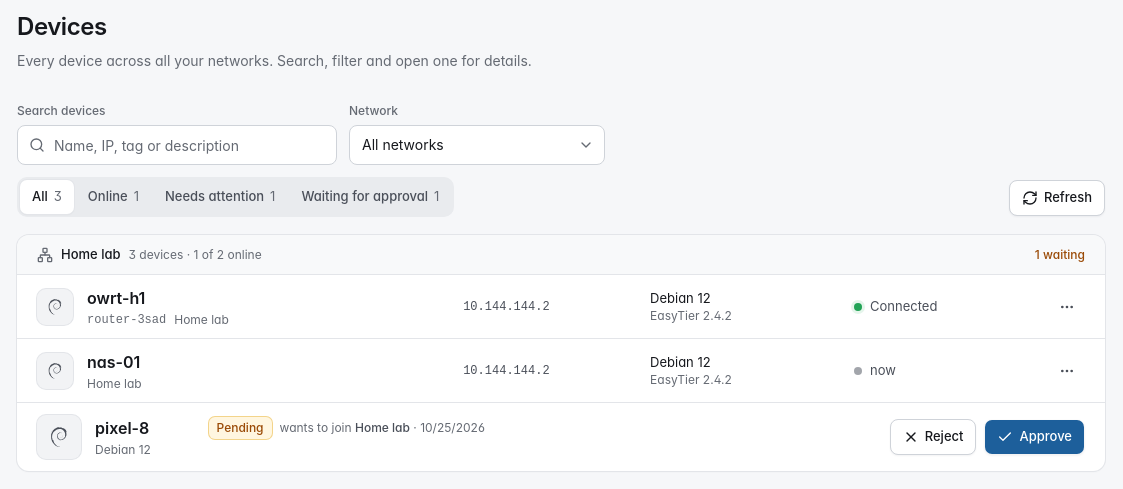
Test case: DevicesPage › filters with the segmented control and offers inline decisions
Expected: the button with aria-label "Approve pixel-8" is shown, top-left (984, 419), bottom-right (1085, 455)
Expected: the button with aria-label "Reject pixel-8" is shown, top-left (890, 419), bottom-right (976, 455)
Click the radio button labelled "Waiting for approval 1" at (370, 197), box top-left (289, 180), bottom-right (451, 214)
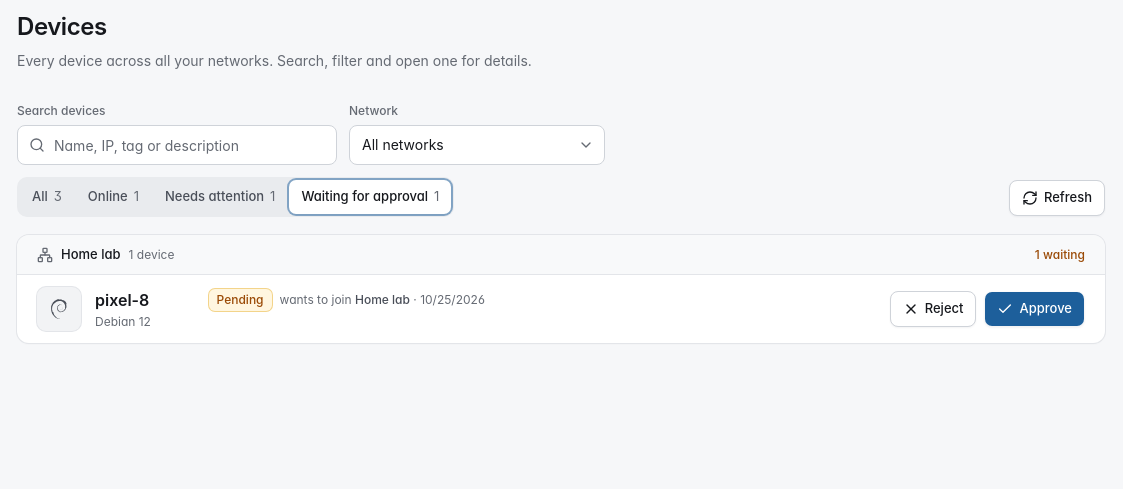
Expected: the link "pixel-8" is shown, top-left (95, 290), bottom-right (149, 310)
Expected: the link "owrt-h1" is gone
